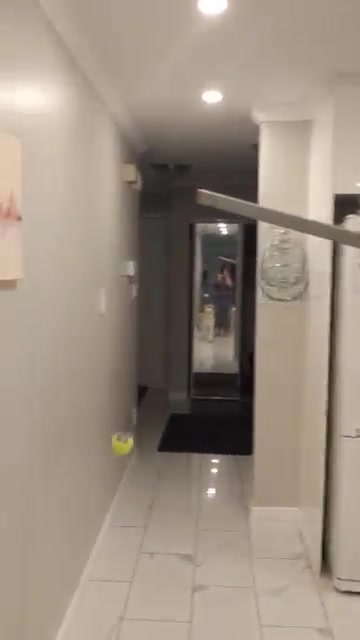tennis_ball: (109, 431, 137, 456)
